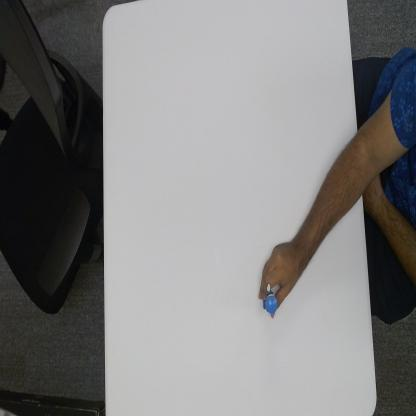Arm: (304, 119, 366, 258)
Hand: (258, 235, 302, 318)
